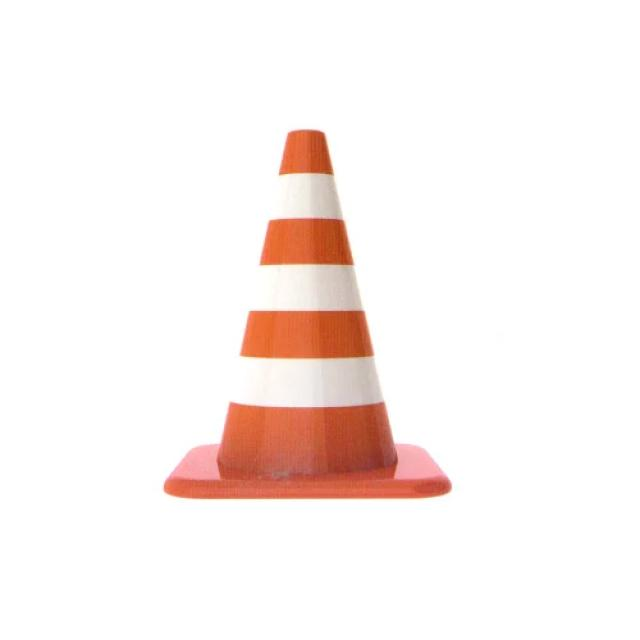Traffic Cone: (139, 88, 494, 548)
